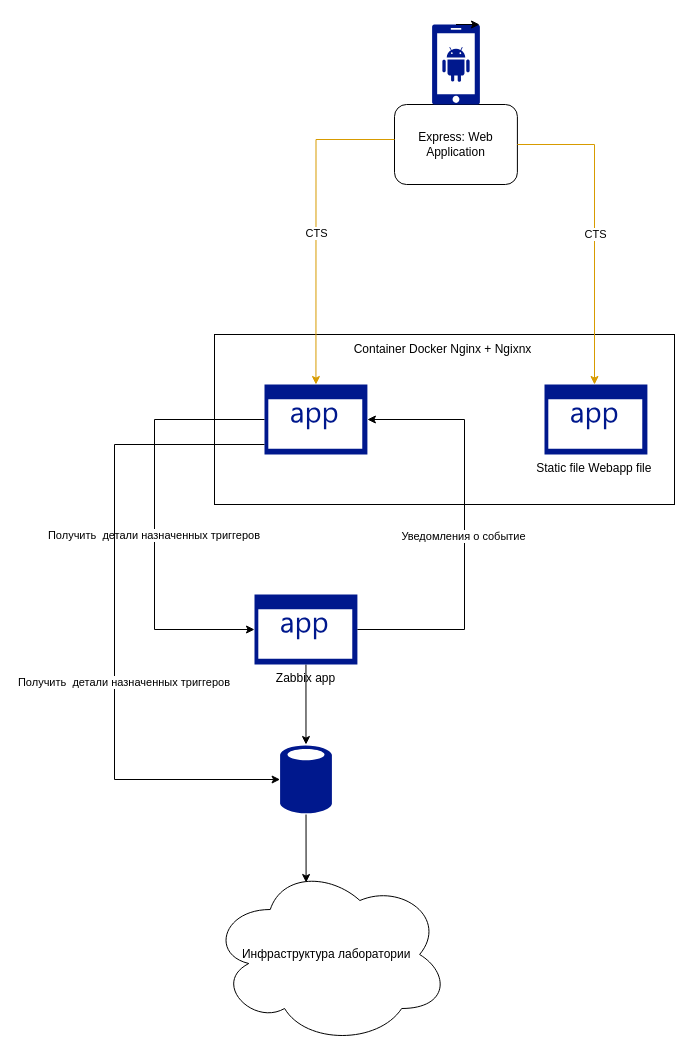
This 692x1062 diagram has some shape labels left out. The box of each missing label's shape, as (x1, y1, x2, y2) in pixels:
Backend: (264, 384, 367, 454)
Zabbix БД: (280, 744, 331, 814)
